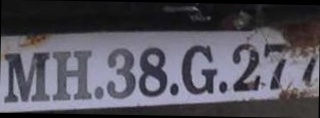character: (2, 51, 52, 104), (51, 48, 93, 100), (181, 43, 219, 95), (106, 47, 138, 99), (231, 41, 262, 93), (138, 46, 168, 96), (262, 39, 287, 92)
